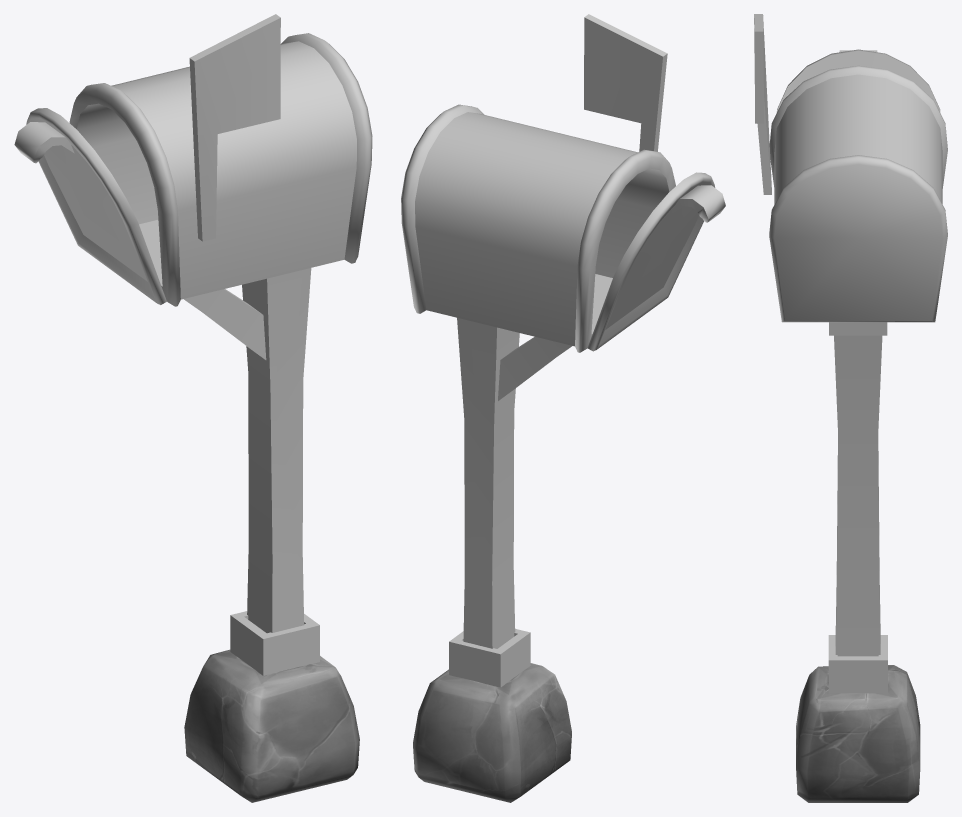
Rendered from Mailbox01.fbx.
3 renders of one model, left to right at view 1: azimuth 30°, elevation 25°; view 2: azimuth 150°, elevation 25°; view 3: azimuth 270°, elevation 25°, orthographic. The views are drawn at different scales.
Visible parts, largest first — view 1: Mailbox01; view 2: Mailbox01; view 3: Mailbox01.
Boxes of the visible parts, <box> form: Mailbox01: <box>14,14,372,802</box>; Mailbox01: <box>401,14,725,802</box>; Mailbox01: <box>754,14,947,802</box>.
Size of the model in its own units: 1.43 by 3.59 by 0.8661.
